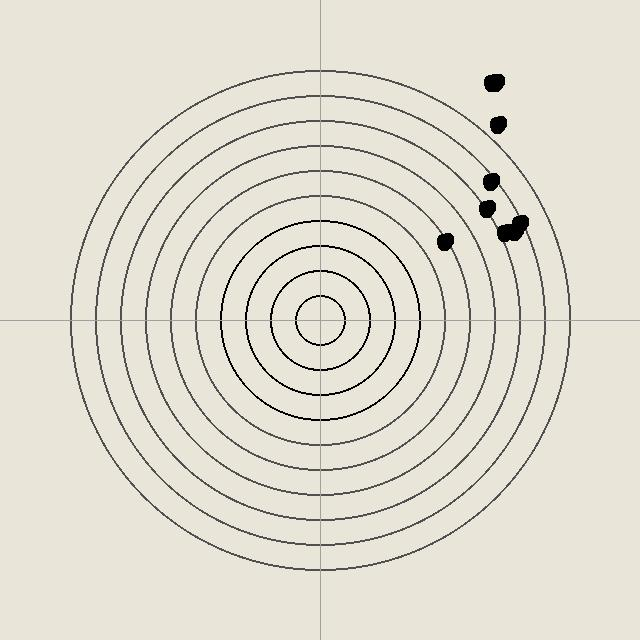vertical_scatter: (485, 72, 505, 92), (487, 114, 507, 134), (480, 171, 500, 191), (494, 222, 514, 242), (434, 231, 454, 251), (504, 221, 524, 241), (476, 198, 496, 218), (481, 72, 501, 92), (509, 213, 529, 233)
